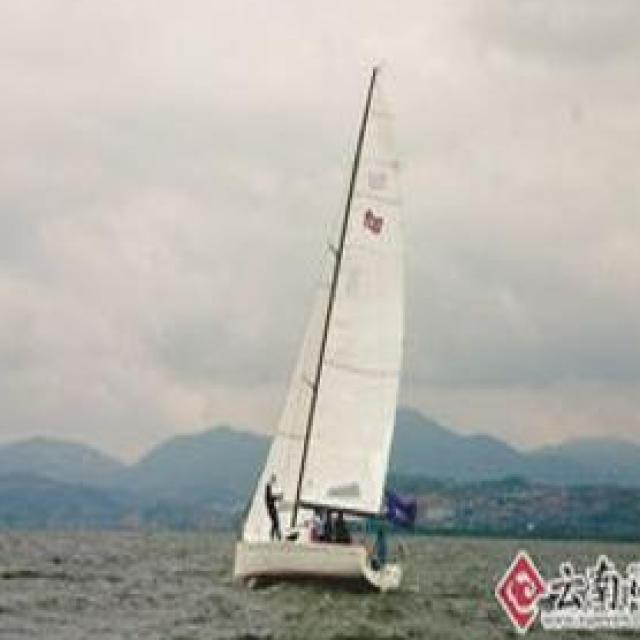sailboat: (230, 61, 426, 592)
